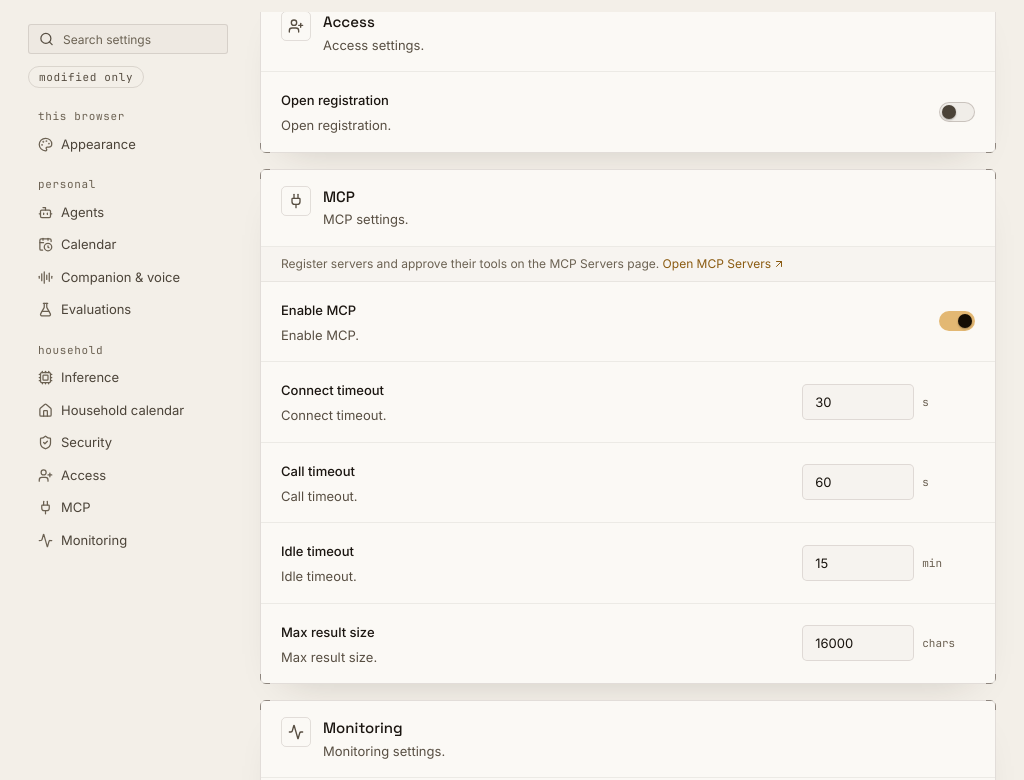
Test: Settings validation › checks number bounds
(page scrolled)
Replace the text in the number field labelled "Connect timeout" with "0" at (858, 402), box top-left (802, 384), bottom-right (914, 420)
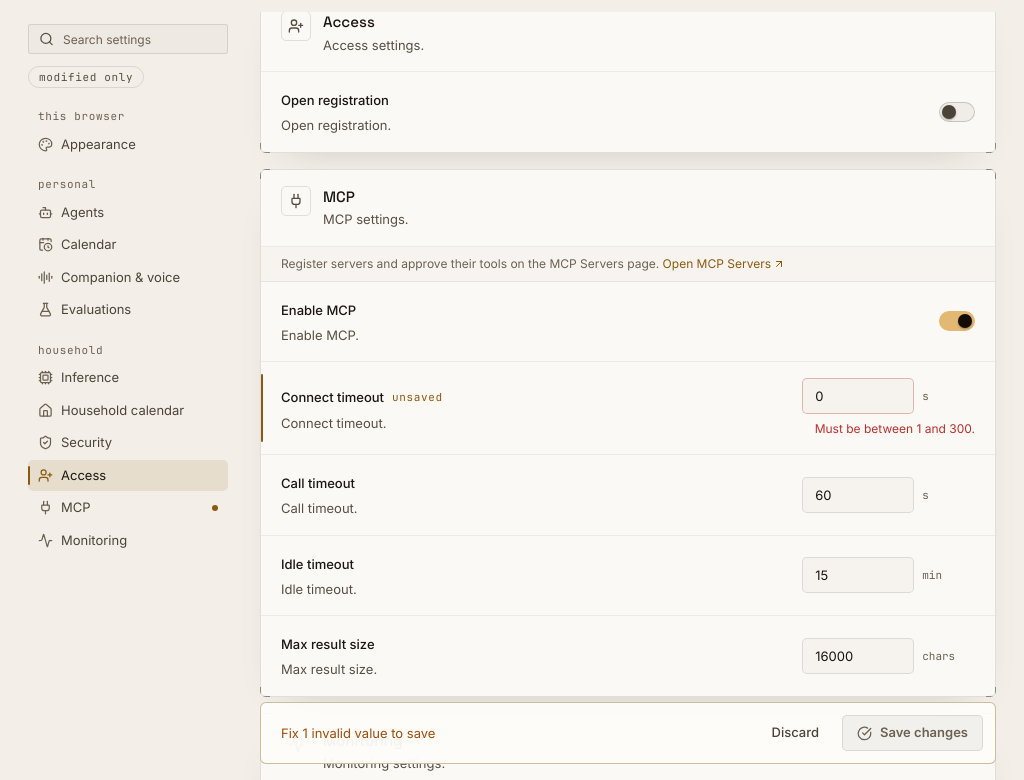
Now the text "Must be between 1 and 300." is shown, box top-left (815, 420), bottom-right (975, 438)
